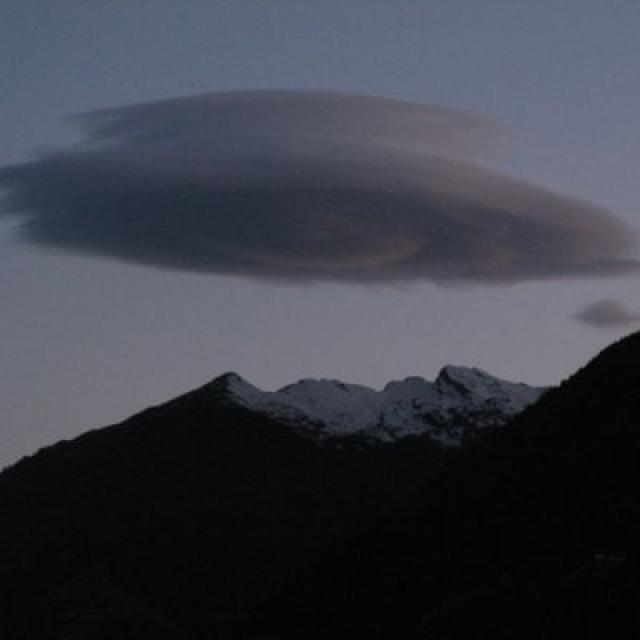Ac: (3, 81, 640, 297)
